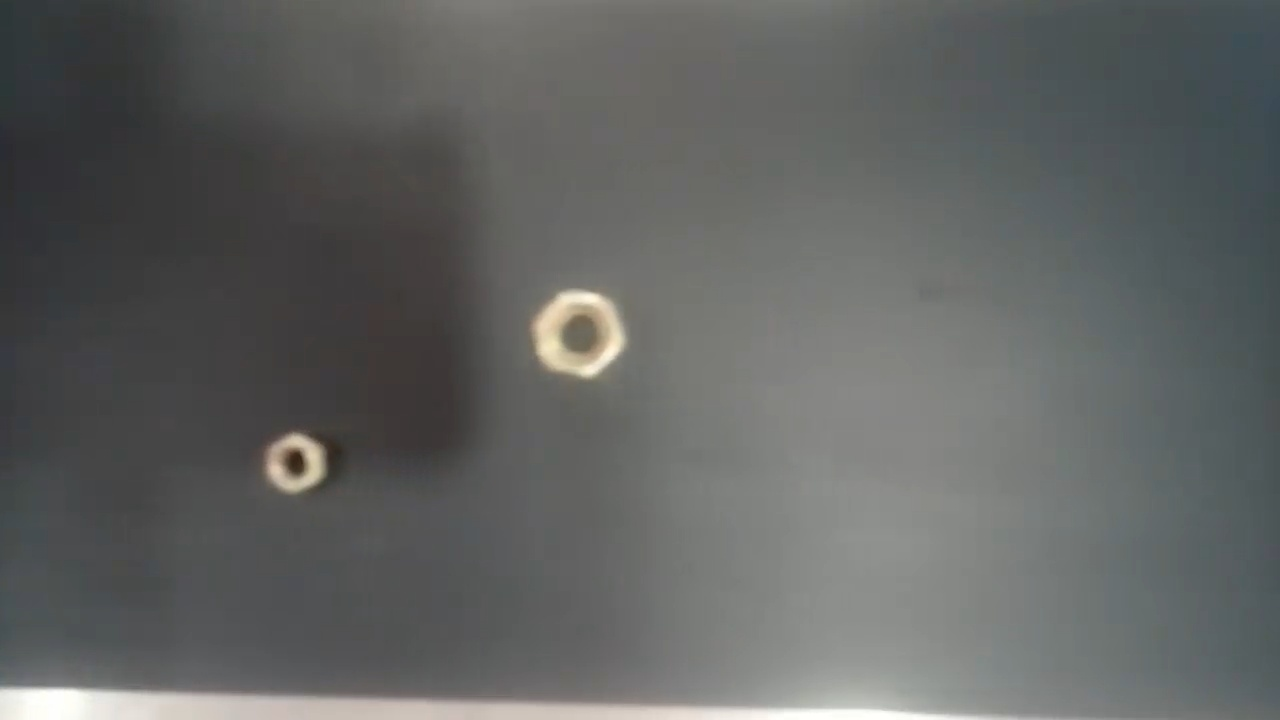Bolt: (528, 284, 625, 380), (262, 431, 333, 496)
